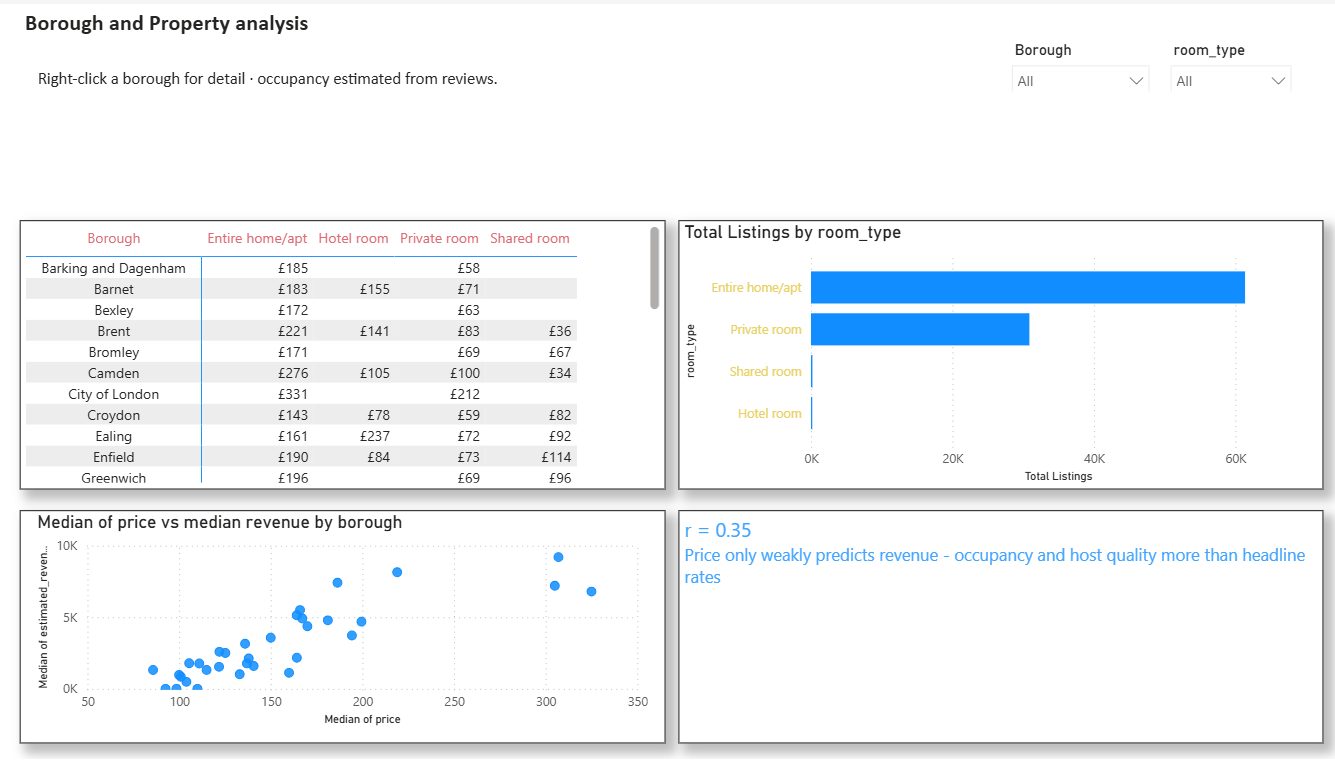

What the dashboard file says about the page in this screenshot:
{"tool":"powerbi","page":{"name":"Borough & Property Analysis","canvas":[1280,720],"ordinal":1},"visuals":[{"type":"pivotTable","fields":{"Rows":["listings_clean.Borough"],"Columns":["listings_clean.room_type"],"Values":["Measures (2).Median Price"]},"box":[23.2,206.7,616.3,256.8],"z":0},{"type":"scatterChart","title":"Median of price vs median revenue by borough","fields":{"X":["Median(listings_clean.price)"],"Y":["Median(listings_clean.estimated_revenue_l365d)"],"Category":["listings_clean.Borough"]},"box":[23.2,483,616.3,222.6],"z":1000},{"type":"clusteredBarChart","fields":{"Category":["listings_clean.room_type"],"Y":["Measures (2).Total Listings"]},"box":[650.5,206.7,615.1,256.8],"z":2000},{"type":"textbox","box":[650.5,483,615.1,222.6],"z":3000},{"type":"textbox","box":[23.2,0,308.2,39.1],"z":4000},{"type":"slicer","fields":{"Values":["listings_clean.Borough"]},"box":[958.7,29.3,151.6,53.8],"z":5000},{"type":"slicer","fields":{"Values":["listings_clean.room_type"]},"box":[1110.3,29.3,135.7,53.8],"z":6000},{"type":"textbox","box":[23.2,56.3,473.2,68.5],"z":7000}]}

Visuals, with their boxes in screenshot pixels (x1, y1, x2, y2), scaled from the page's 1280x720 canvas onto the 1335x771 screenshot:
pivotTable - listings_clean.Borough x listings_clean.room_type: (24,221,667,496)
"Median of price vs median revenue by borough" scatterChart: (24,517,667,756)
clusteredBarChart - listings_clean.room_type x Measures (2).Total Listings: (678,221,1320,496)
textbox: (678,517,1320,756)
textbox: (24,0,346,42)
slicer - listings_clean.Borough: (1000,31,1158,89)
slicer - listings_clean.room_type: (1158,31,1300,89)
textbox: (24,60,518,134)
